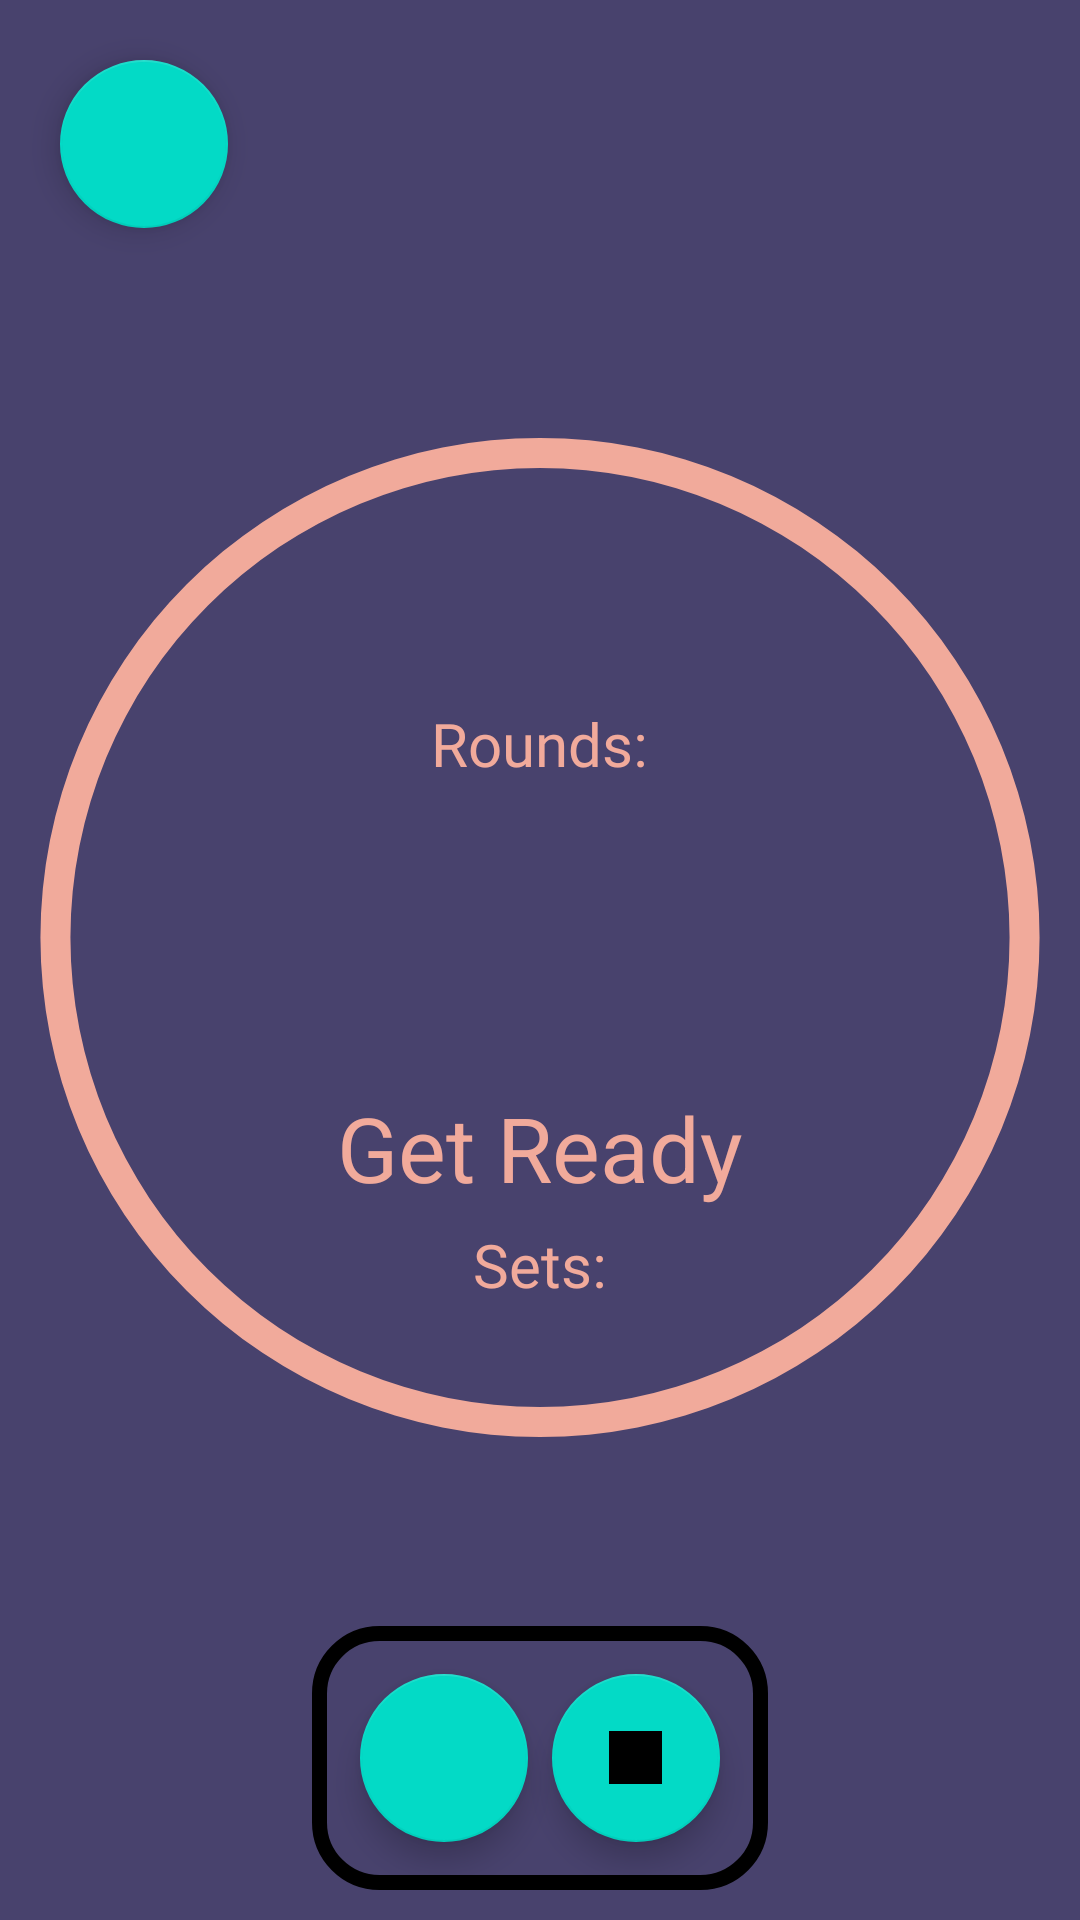

Where icons sit on this 1080*1920 app screen, as (x1, y1, x2, y2):
End: (552, 1674, 720, 1842)
